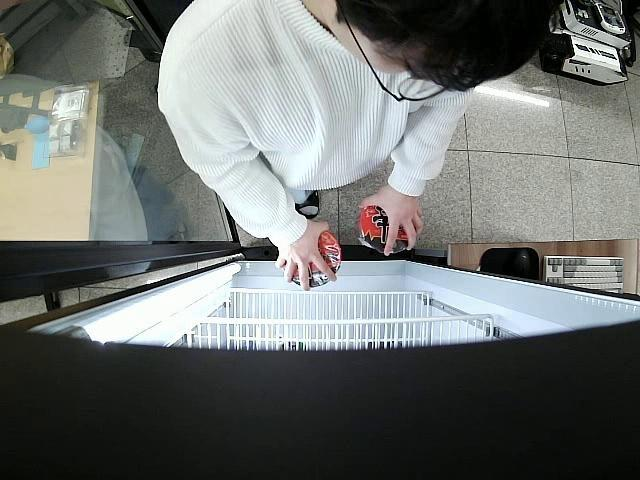01_ShinRamen_L: (281, 231, 342, 288), (360, 206, 410, 256)
